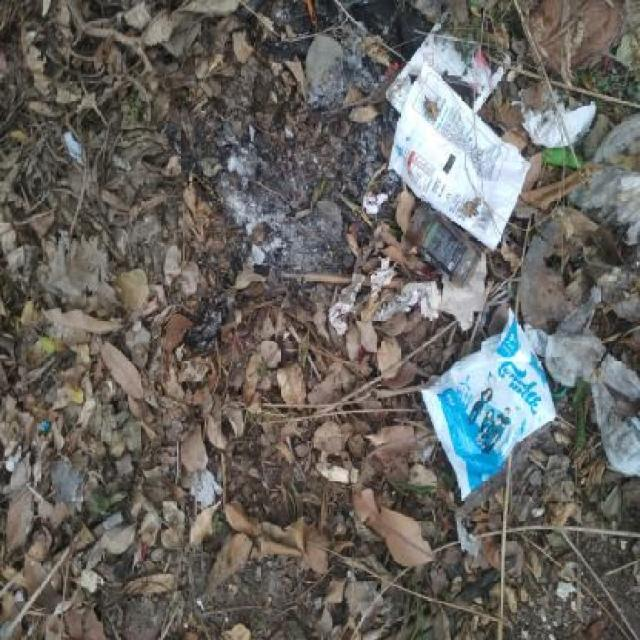garbage: (3, 2, 640, 640)
